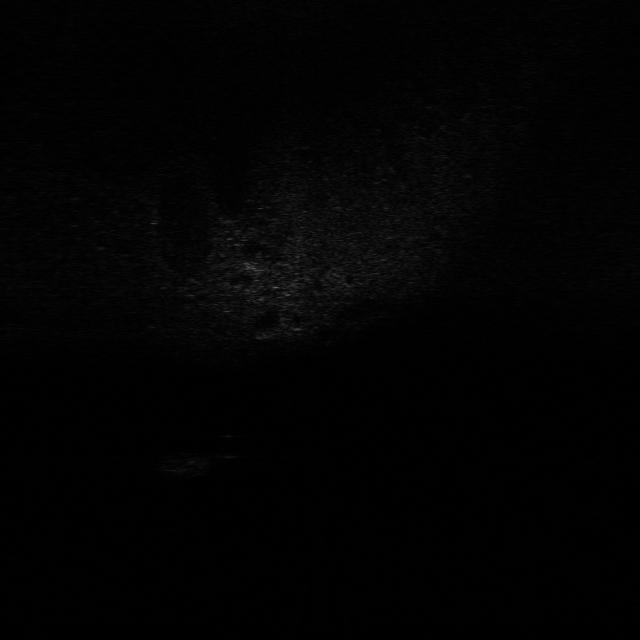ball: (213, 430, 254, 460)
human body: (152, 451, 227, 483)
